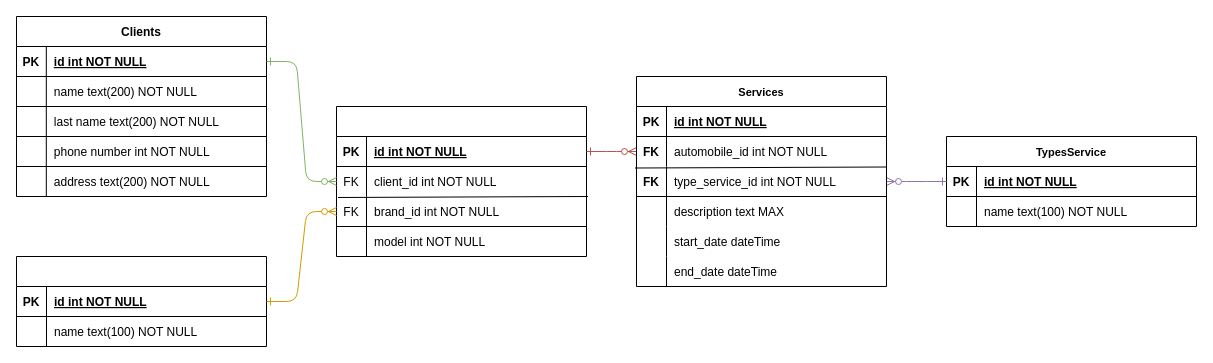
This 1213x363 diagram has some shape labels left out. Here are the shapes that lost their labels. From the top down, the box of each, then its label:
(336, 106, 586, 256): Automobiles
(16, 256, 266, 346): Brands
